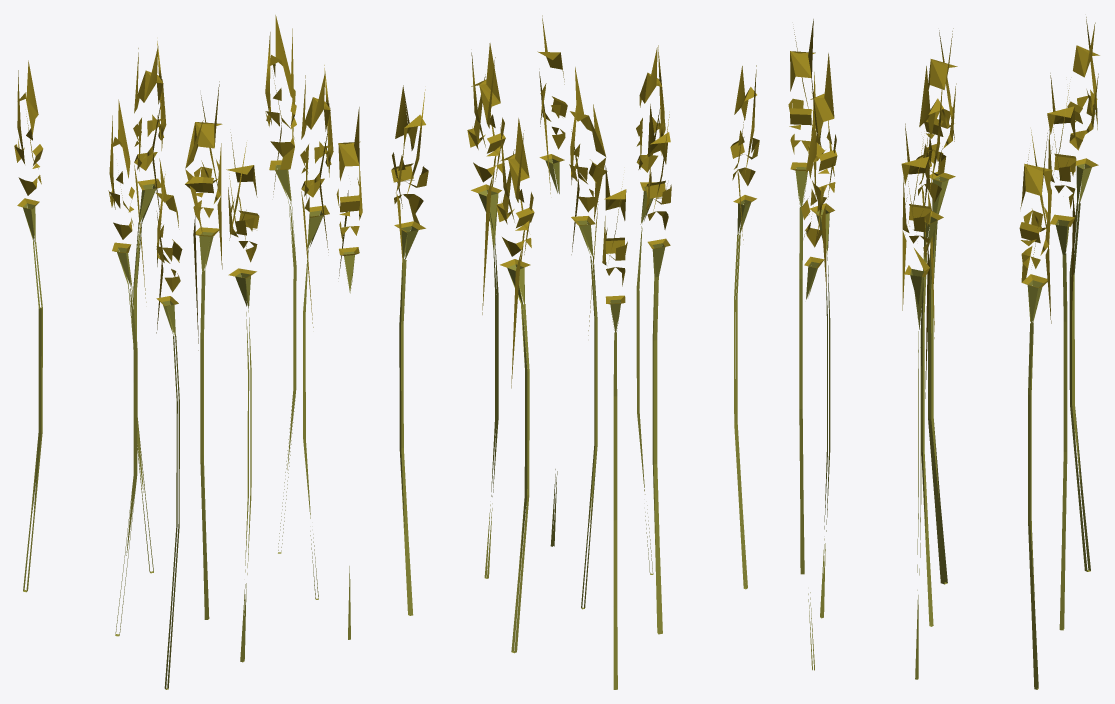
File: Wheat2Rotated3.glb
The picture shows the model from 3 angles, left to right: view 1: azimuth 30°, elevation 25°; view 2: azimuth 150°, elevation 25°; view 3: azimuth 270°, elevation 25°; orthographic projection. The views are drawn at different scales.
Parts seen in each view (by area): view 1: Wheat.006; view 2: Wheat.006; view 3: Wheat.006.
Boxes of the visible parts, x1,y1,x2,y2 form: Wheat.006: (14,15,362,689); Wheat.006: (391,15,759,689); Wheat.006: (788,17,1099,689).
Size of the model in its own units: 0.7725 by 1.54 by 0.7682.
